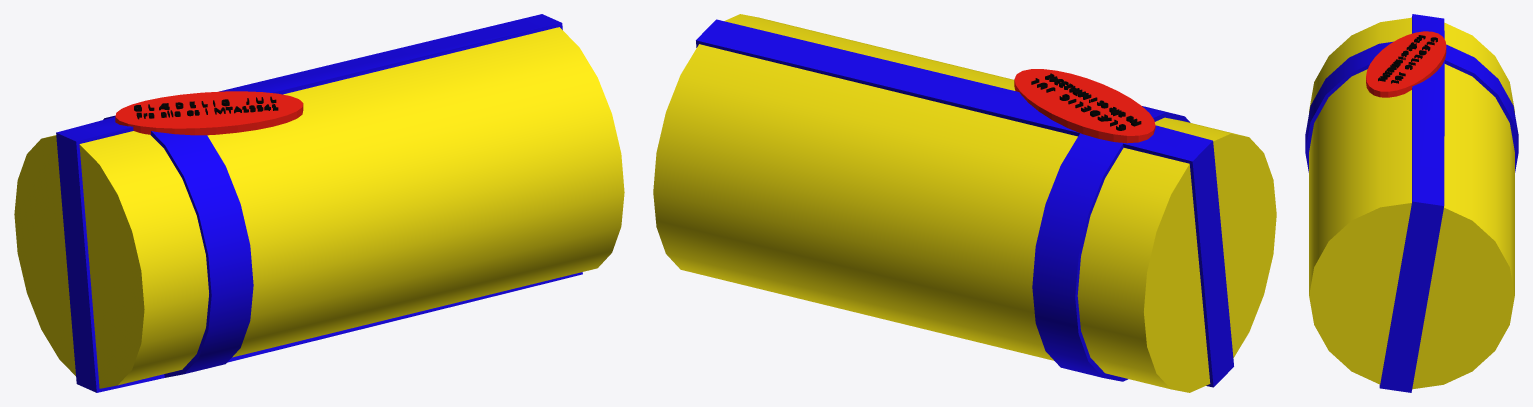
Rendered from present_cylinder_yellowblue.FBX.
3 renders of one model, left to right at view 1: azimuth 30°, elevation 25°; view 2: azimuth 150°, elevation 25°; view 3: azimuth 270°, elevation 25°, orthographic. The views are drawn at different scales.
Visible parts, largest first — view 1: Cylinder001, Object001, Ellipse001, Text001; view 2: Cylinder001, Object001, Ellipse001, Text001; view 3: Cylinder001, Object001, Ellipse001, Text001.
Part boxes in pixels (bbox=[...]): Cylinder001: bbox=[14, 27, 624, 388]; Object001: bbox=[56, 14, 582, 392]; Ellipse001: bbox=[115, 91, 303, 135]; Text001: bbox=[134, 96, 278, 119]; Cylinder001: bbox=[653, 14, 1276, 392]; Object001: bbox=[696, 19, 1233, 387]; Ellipse001: bbox=[1014, 69, 1155, 143]; Text001: bbox=[1031, 73, 1141, 130]; Cylinder001: bbox=[1309, 17, 1514, 389]; Object001: bbox=[1305, 14, 1518, 392]; Ellipse001: bbox=[1366, 31, 1446, 97]; Text001: bbox=[1378, 35, 1437, 83].
Bounding box in the file's own units: 90.24 × 44.22 × 43.43.
